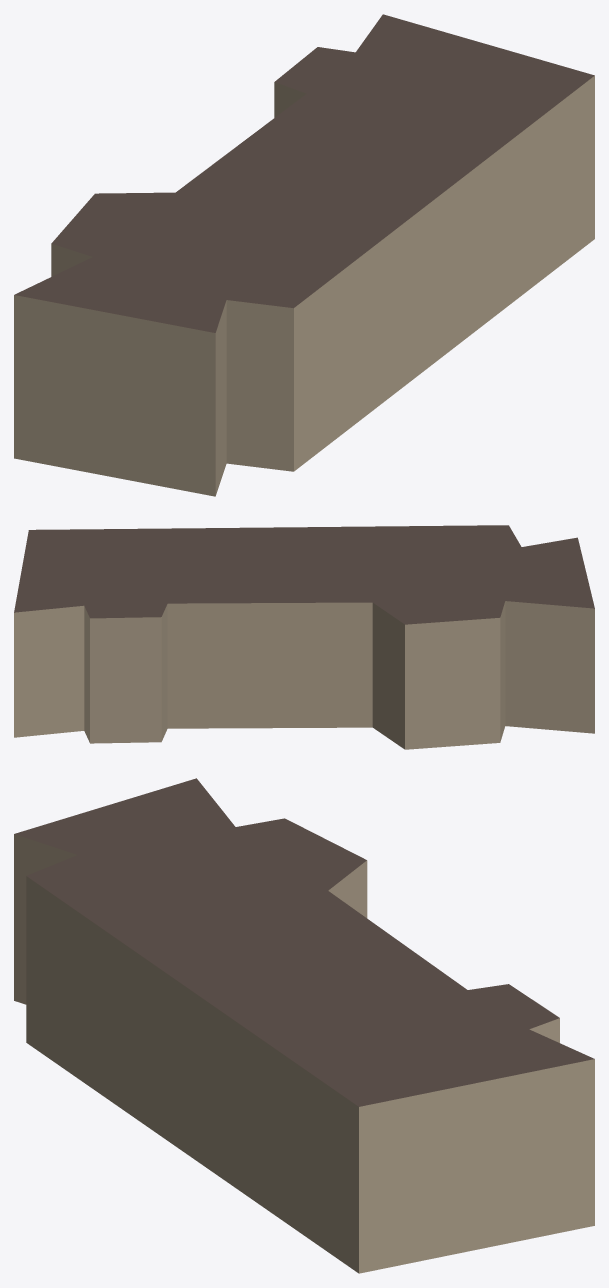
3 views of the same model, one above another, from view 1: azimuth 30°, elevation 25°; view 2: azimuth 150°, elevation 25°; view 3: azimuth 270°, elevation 25° (orthographic). The views are drawn at different scales.
Parts seen in each view (by area): view 1: HP-w1512359825; view 2: HP-w1512359825; view 3: HP-w1512359825.
Boxes of the visible parts, box(x1,y1,x2,y2) form: HP-w1512359825: box(14, 14, 594, 496); HP-w1512359825: box(14, 525, 594, 749); HP-w1512359825: box(14, 778, 594, 1273).
Bounding box in the file's own units: 38.04 × 9 × 28.42.
